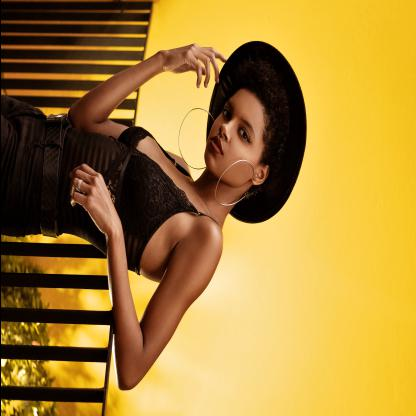Eye: (237, 125, 252, 149), (219, 100, 233, 124)
Mouth: (206, 133, 226, 159)
Nose: (219, 119, 235, 141)
